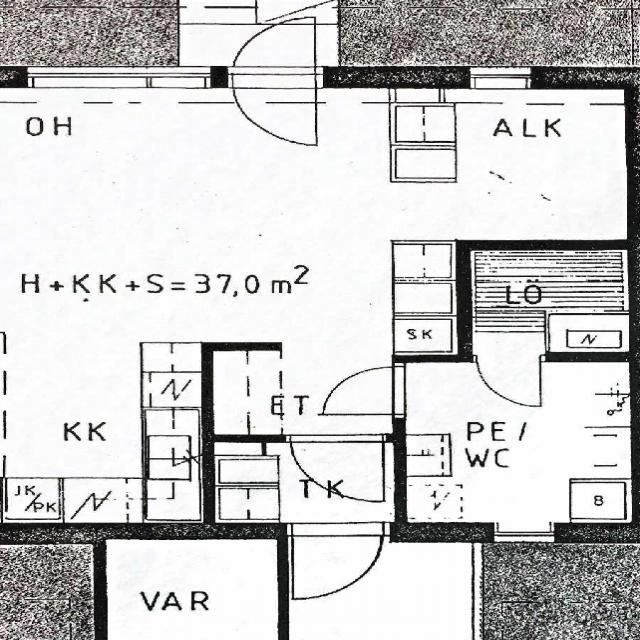door: (291, 522, 382, 598), (232, 8, 315, 88), (290, 433, 382, 505), (232, 66, 315, 145), (325, 366, 406, 414), (476, 354, 540, 406)
